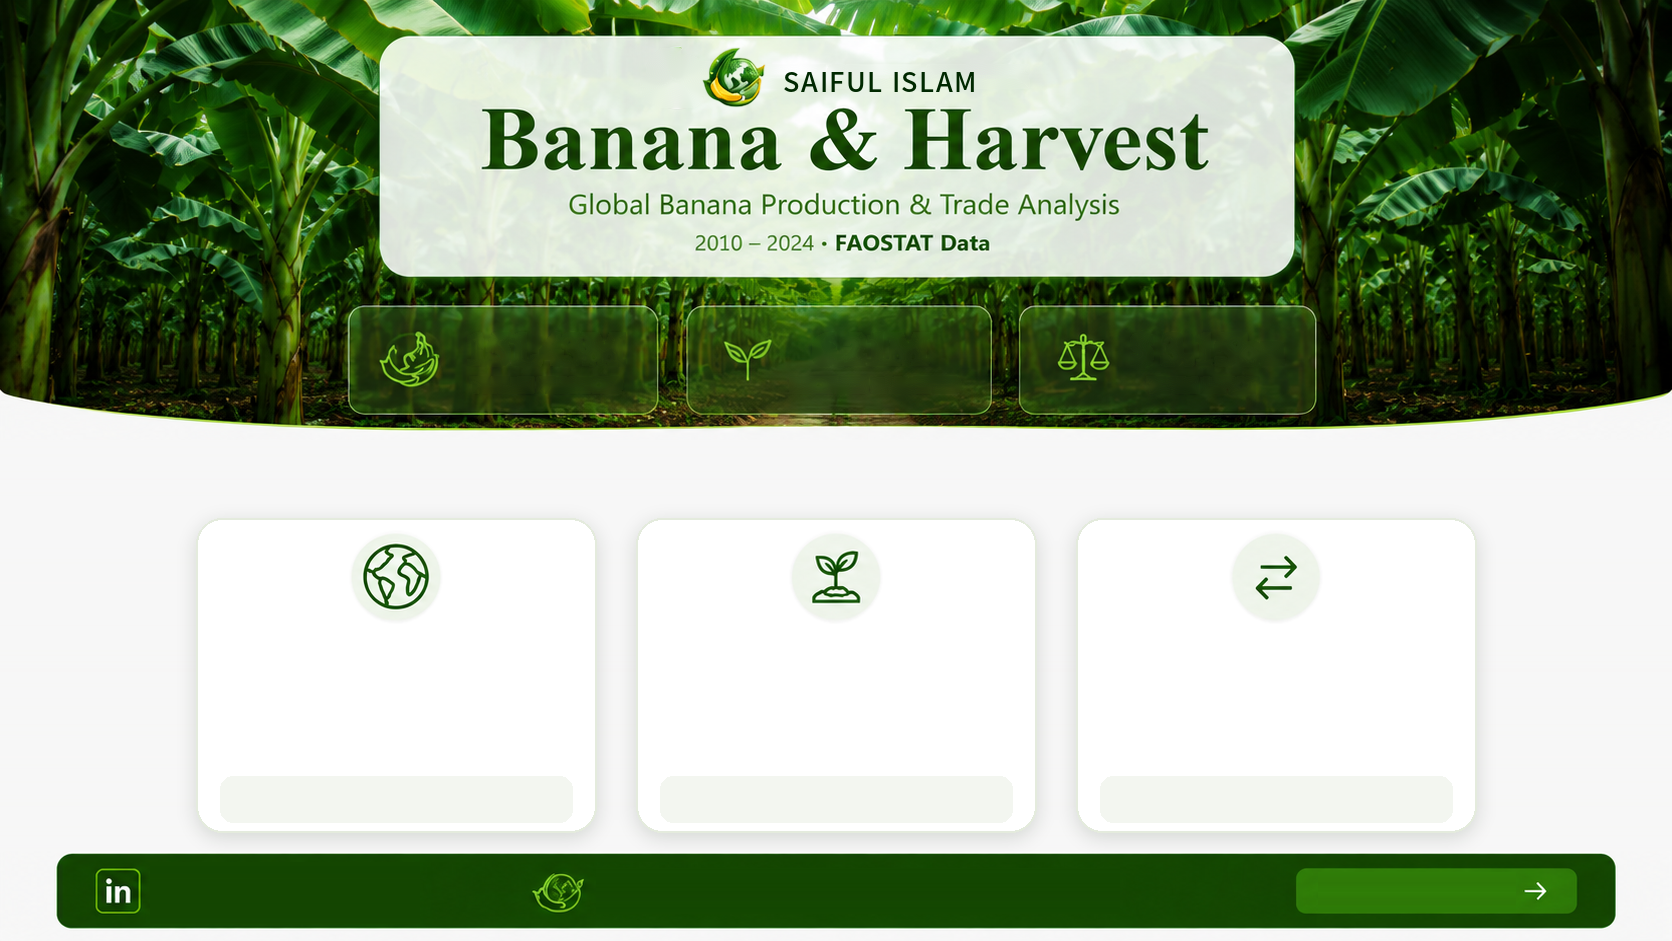

What the dashboard file says about the page in this screenshot:
{"tool":"powerbi","page":{"name":"Welcome","canvas":[1920,1080],"ordinal":0},"visuals":[{"type":"cardVisual","fields":{"Data":["All Measures.Total Production"]},"box":[514.5,363,222.4,98.3],"z":0},{"type":"cardVisual","fields":{"Data":["Who grows Measures.Total Area Harvested Label"]},"box":[899.3,363,222.4,98.3],"z":1000},{"type":"cardVisual","fields":{"Data":["All Measures.Trade Balance"]},"box":[1275.9,363,214.2,98.3],"z":2000},{"type":"textbox","box":[255.2,719.1,395.7,155.6],"z":3000},{"type":"textbox","box":[762.8,719.1,395.7,155.6],"z":4000},{"type":"textbox","box":[1275.9,719.1,395.7,155.6],"z":5000},{"type":"actionButton","box":[255.2,888.4,406.7,47.8],"z":6000},{"type":"actionButton","box":[757.4,888.4,406.7,47.8],"z":7000},{"type":"actionButton","box":[1265,888.4,406.7,47.8],"z":8000},{"type":"actionButton","box":[1490.1,993.4,252.5,54.6],"z":9000},{"type":"textbox","box":[697.3,1004.3,626.4,54.6],"z":10000},{"type":"textbox","box":[176,983.9,282.5,36.8],"z":10001},{"type":"actionButton","box":[173.3,1011.2,178.8,47.8],"z":10002}]}

Visuals, with their boxes in screenshot pixels (x1, y1, x2, y2), scaled from the page's 1920x1080 canvas onto the 1672x941 screenshot:
cardVisual - All Measures.Total Production: [left=448, top=316, right=642, bottom=402]
cardVisual - Who grows Measures.Total Area Harvested Label: [left=783, top=316, right=977, bottom=402]
cardVisual - All Measures.Trade Balance: [left=1111, top=316, right=1298, bottom=402]
textbox: [left=222, top=627, right=567, bottom=762]
textbox: [left=664, top=627, right=1009, bottom=762]
textbox: [left=1111, top=627, right=1456, bottom=762]
actionButton: [left=222, top=774, right=576, bottom=816]
actionButton: [left=660, top=774, right=1014, bottom=816]
actionButton: [left=1102, top=774, right=1456, bottom=816]
actionButton: [left=1298, top=866, right=1518, bottom=913]
textbox: [left=607, top=875, right=1153, bottom=923]
textbox: [left=153, top=857, right=399, bottom=889]
actionButton: [left=151, top=881, right=307, bottom=923]
